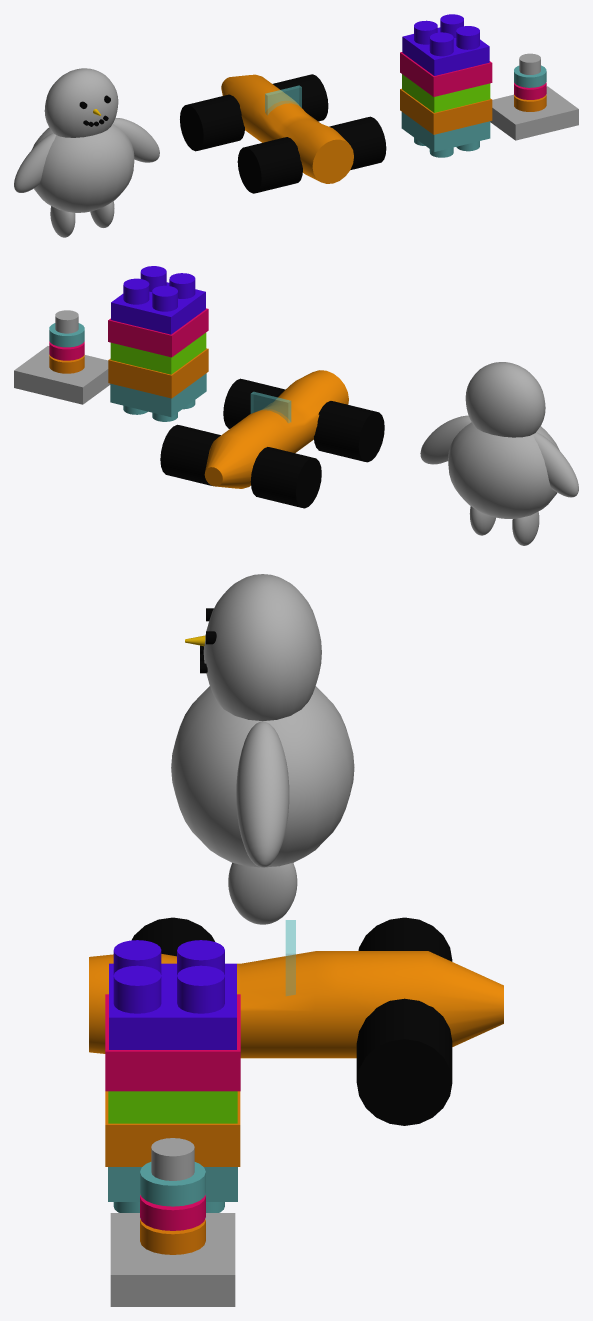
The model's file is toys.fbx.
3 renders of one model, top to bottom at view 1: azimuth 30°, elevation 25°; view 2: azimuth 150°, elevation 25°; view 3: azimuth 270°, elevation 25°, orthographic. The views are drawn at different scales.
Parts seen in each view (by area): view 1: pCube2, pSphere7, pCylinder22, pCylinder27; view 2: pCube2, pSphere7, pCylinder22, pCylinder27; view 3: pSphere7, pCube2, pCylinder22, pCylinder27.
Boxes of the visible parts, box(x1,y1,x2,y2) form: pCube2: box(180, 74, 386, 193); pSphere7: box(14, 68, 159, 237); pCylinder22: box(400, 14, 492, 157); pCylinder27: box(490, 53, 578, 140); pCube2: box(160, 370, 384, 508); pSphere7: box(420, 362, 578, 545); pCylinder22: box(108, 266, 208, 421); pCylinder27: box(14, 310, 110, 404); pSphere7: box(171, 574, 354, 924); pCube2: box(89, 917, 503, 1125); pCylinder22: box(105, 940, 240, 1212); pCylinder27: box(110, 1138, 235, 1306).
Bounding box in the file's own units: 25.38 × 7.43 × 8.66.
